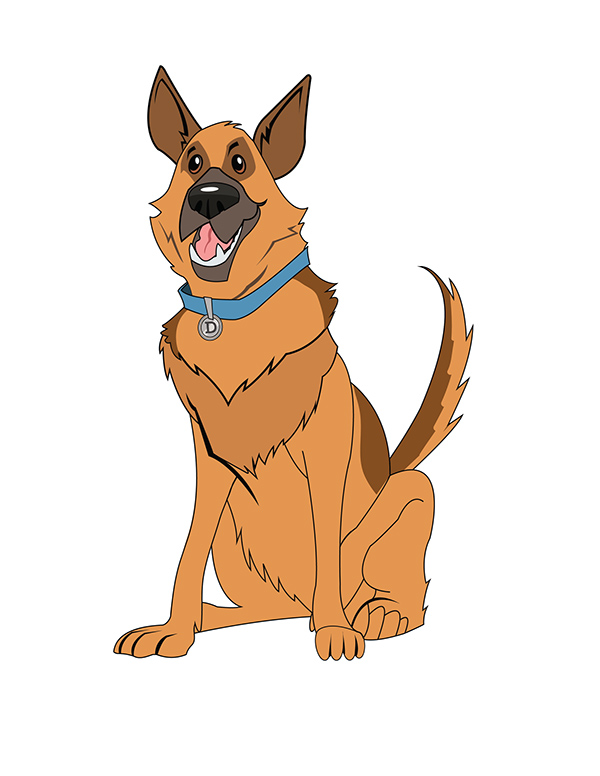dog: (107, 67, 476, 667)
